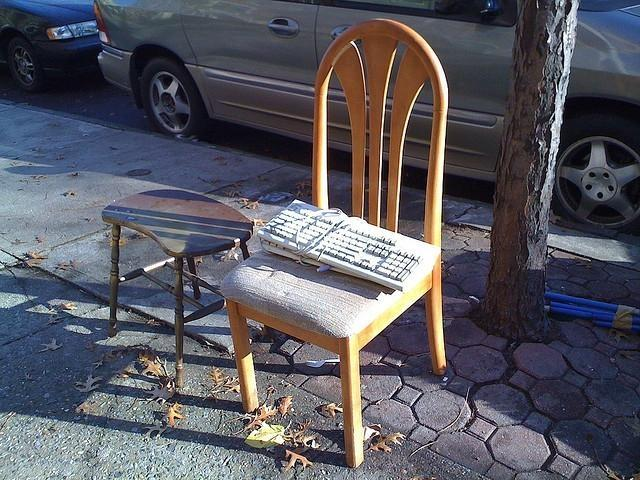car: (94, 0, 636, 225), (0, 1, 101, 92)
